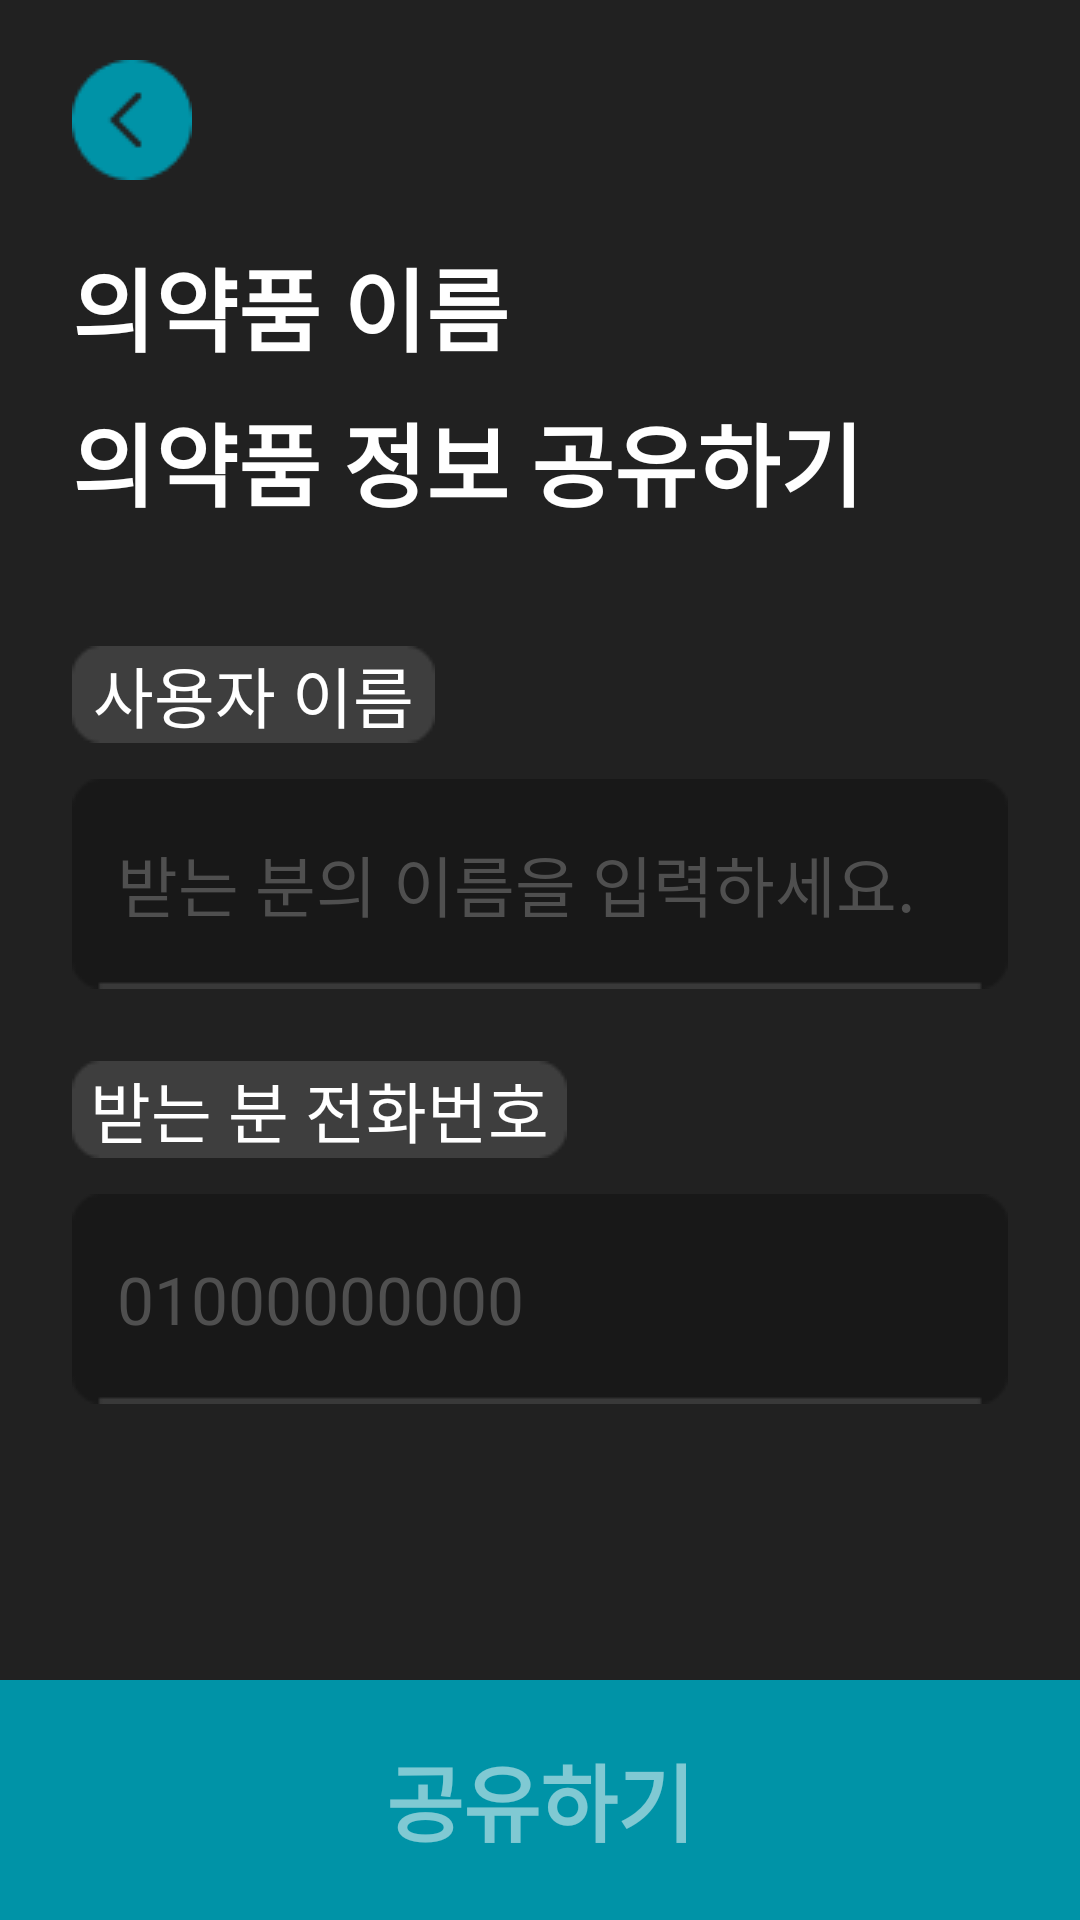

Where icons sit on this 1080px×1920px app screen, as (x1, y1, x2, y2):
backbutton: (72, 60, 192, 180)
